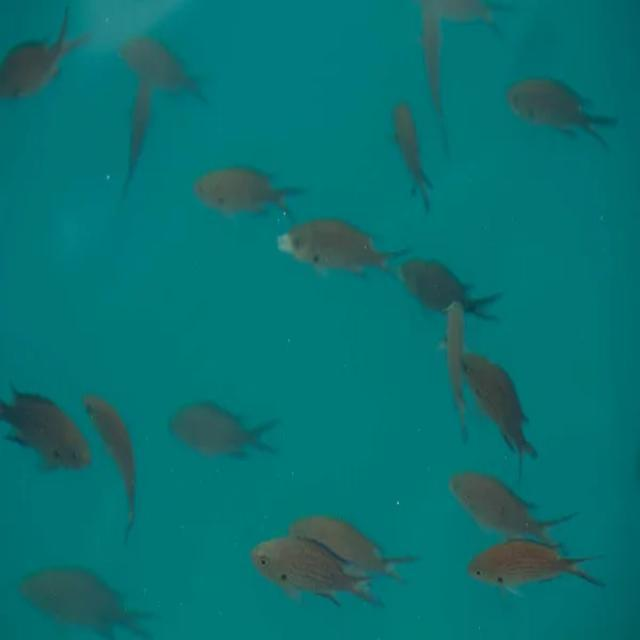fish: (21, 565, 160, 639), (457, 354, 540, 476), (253, 532, 379, 610), (0, 0, 93, 102), (455, 475, 582, 542), (83, 391, 137, 544), (295, 516, 419, 582), (509, 78, 622, 149), (0, 383, 90, 469), (290, 218, 405, 282), (167, 400, 285, 460), (464, 535, 601, 586), (403, 255, 501, 326), (117, 34, 209, 103), (196, 167, 306, 222), (393, 98, 435, 213), (446, 302, 467, 439), (127, 76, 150, 194)
